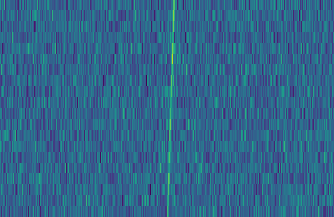signal: (163, 0, 178, 217)
